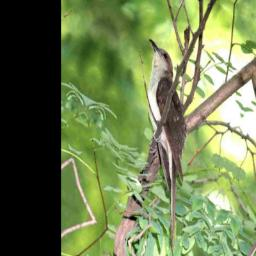Cuckoo: (104, 37, 220, 256)
